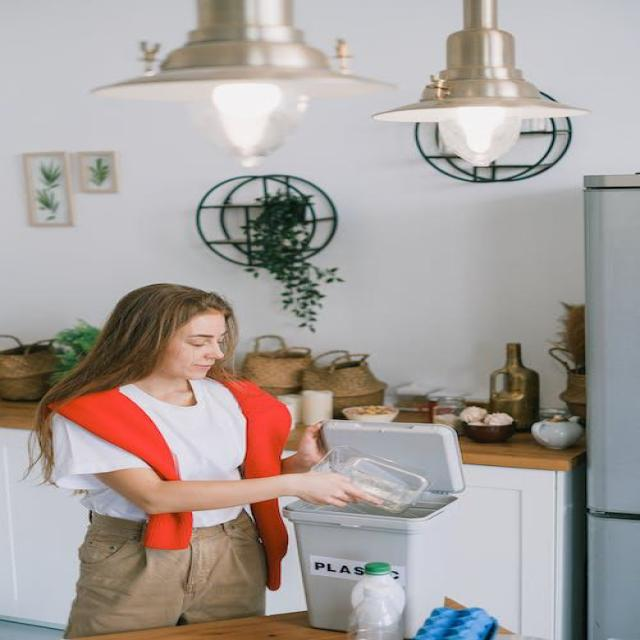plastic: (332, 553, 428, 640)
